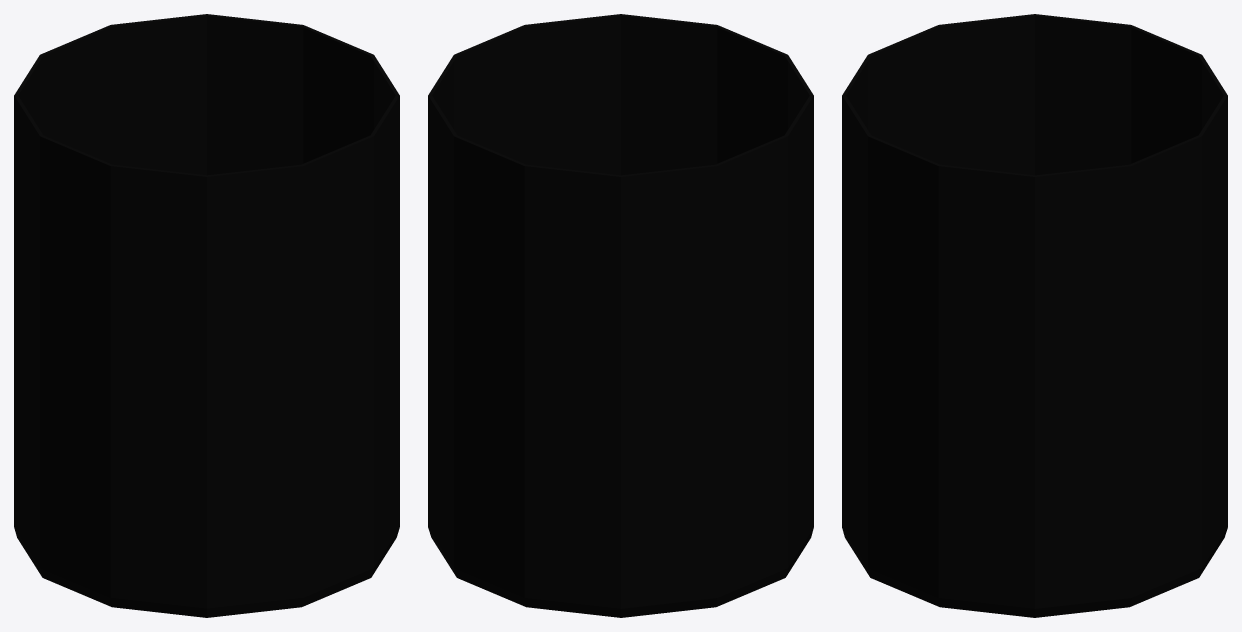
The model's file is Tarro_Basura.fbx.
3 views of the same model, side by side, from view 1: azimuth 30°, elevation 25°; view 2: azimuth 150°, elevation 25°; view 3: azimuth 270°, elevation 25° (orthographic).
Visible parts, largest first — view 1: Tarro_Basura; view 2: Tarro_Basura; view 3: Tarro_Basura.
Boxes of the visible parts, x1=… form: Tarro_Basura: x1=14, y1=14, x2=399, y2=617; Tarro_Basura: x1=428, y1=14, x2=813, y2=617; Tarro_Basura: x1=842, y1=14, x2=1227, y2=617.
Bounding box in the file's own units: 2 × 2.53 × 2.
